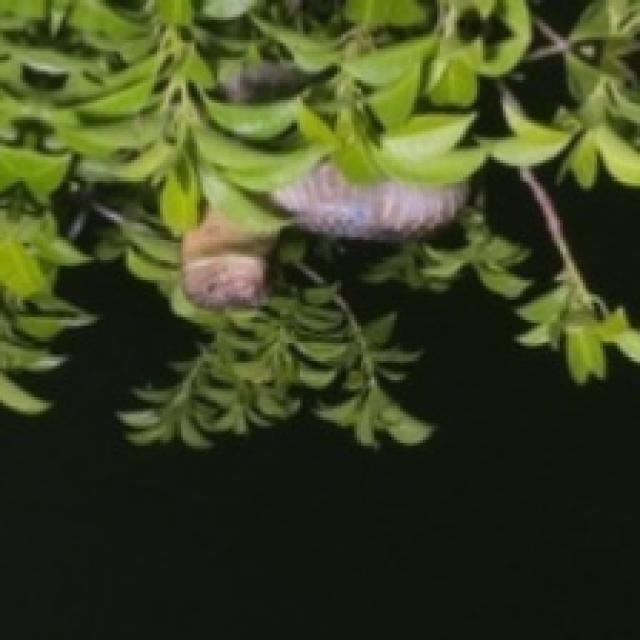king cobra: (271, 163, 466, 237), (182, 210, 275, 307)
